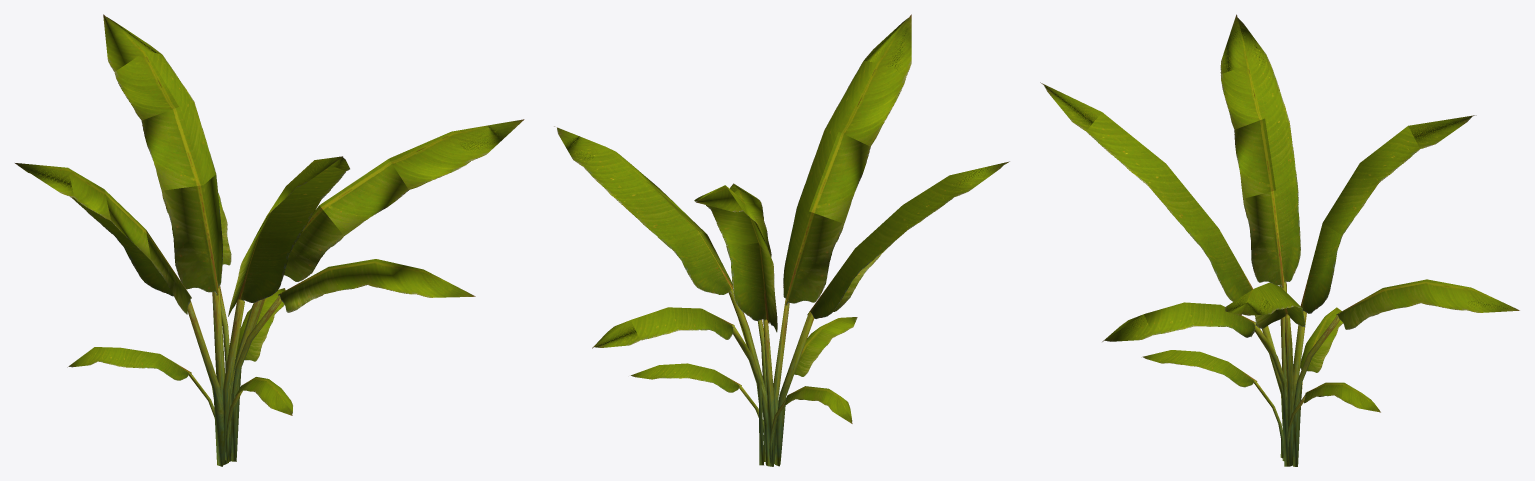
File: plant h.dae
3 views of the same model, side by side, from view 1: azimuth 30°, elevation 25°; view 2: azimuth 150°, elevation 25°; view 3: azimuth 270°, elevation 25° (orthographic). The views are drawn at different scales.
Visible parts, largest first — view 1: plant_h_plant_i, plant_h_trunk; view 2: plant_h_plant_i, plant_h_trunk; view 3: plant_h_plant_i, plant_h_trunk.
Boxes of the visible parts, <box> form: plant_h_plant_i: <box>15,14,524,415</box>; plant_h_trunk: <box>187,286,281,466</box>; plant_h_plant_i: <box>554,14,1009,423</box>; plant_h_trunk: <box>729,289,814,466</box>; plant_h_plant_i: <box>1040,14,1519,412</box>; plant_h_trunk: <box>1254,282,1339,466</box>.
Bounding box in the file's own units: 111 × 85.53 × 100.
Materials: 1 (1 with a texture image).
